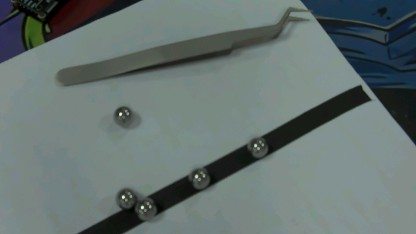ironball: (131, 196, 160, 222), (243, 133, 268, 159), (116, 186, 138, 210), (111, 101, 131, 126), (187, 168, 209, 190)
